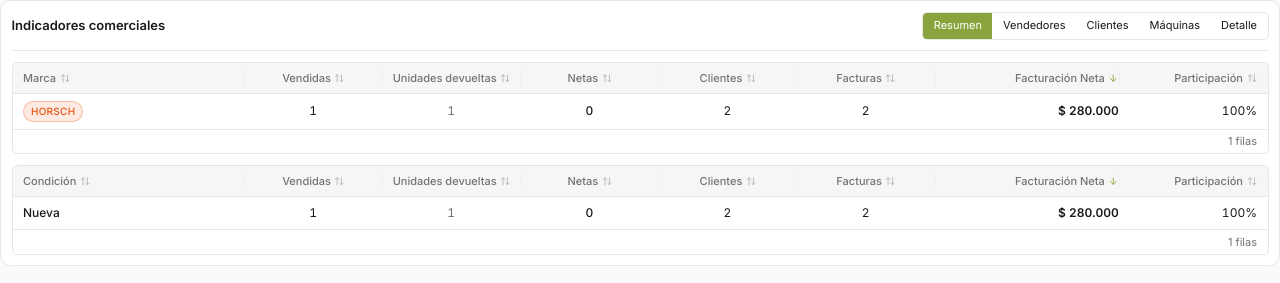
Scenario: Ventas de Máquinas › muestra vendedor y el chasis como texto plano, sin origen ni situación
What coordinates should you click on to do the following:
click the button "Detalle"
I would click on:
 (1239, 26)
Its box is [1211,12,1268,38].
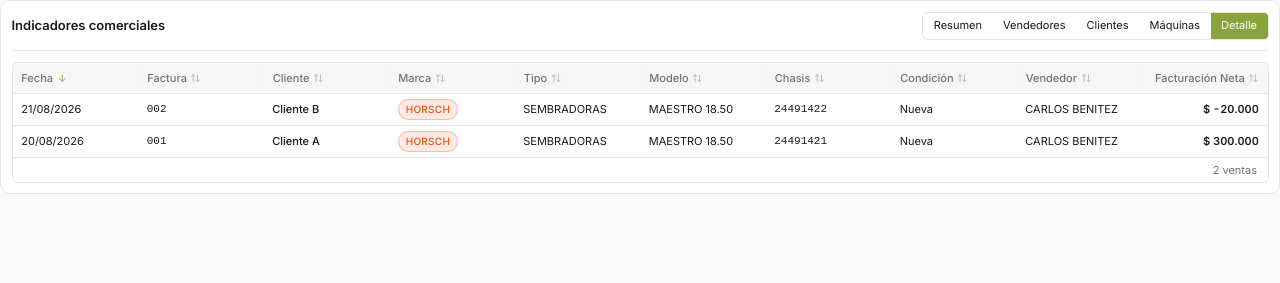
Expected: the text "Vendedor" is shown, [1026,70,1077,86]
Expected: the text "Tipo" is shown, [524,70,547,86]
Expected: the text "CARLOS BENITEZ" is shown 2 times, [1016,94,1142,126]; [1016,126,1142,157]
